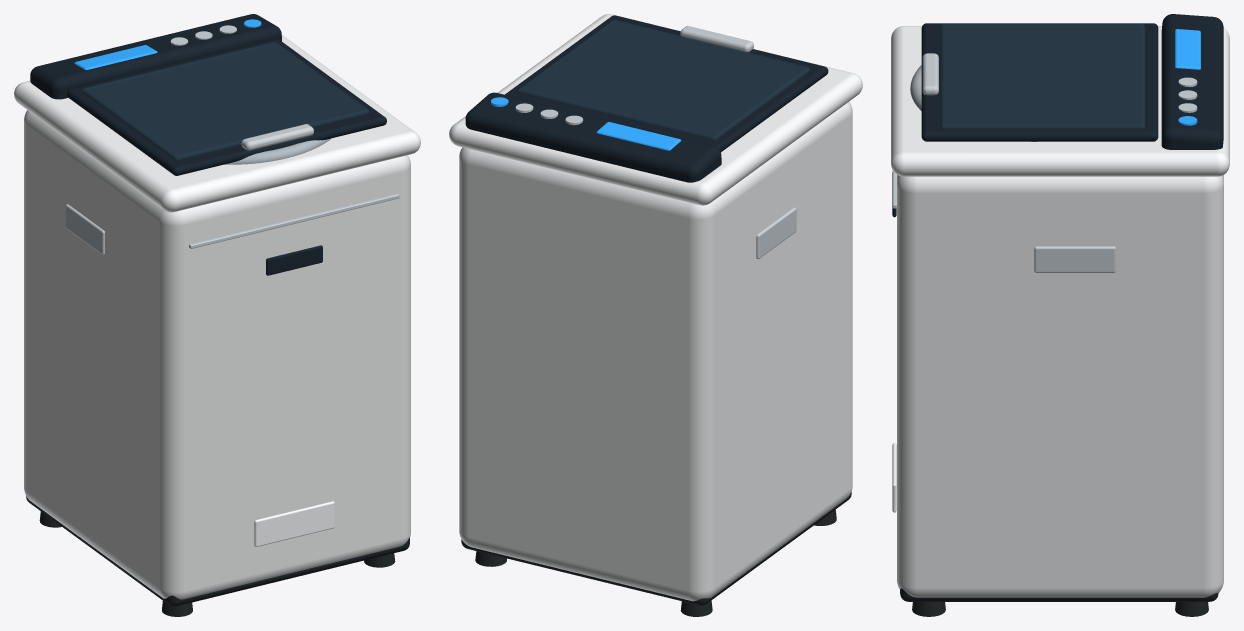
Rendered from washer.glb.
3 views of the same model, side by side, from view 1: azimuth 30°, elevation 25°; view 2: azimuth 150°, elevation 25°; view 3: azimuth 270°, elevation 25° (orthographic). The views are drawn at different scales.
Visible parts, largest first — view 1: Cabinet, Lid_Frame, Lid_Glass, Top_Deck, Control_Console, Service_Hatch, Lower_Plinth, Front_Top_Seam, Side_Grip_Left, Brand_Badge, Tub_Outer_Rim, Lid_Handle (+1 smaller); view 2: Cabinet, Lid_Frame, Lid_Glass, Top_Deck, Control_Console, Lower_Plinth, Digital_Display, Side_Grip_Left, Lid_Handle; view 3: Cabinet, Lid_Frame, Lid_Glass, Top_Deck, Control_Console, Side_Grip_Right, Lower_Plinth, Digital_Display, Lid_Handle.
Part boxes in pixels (x1,y1,x2,y2): Cabinet: (24, 110, 410, 599); Lid_Frame: (67, 39, 386, 175); Lid_Glass: (82, 42, 369, 160); Top_Deck: (14, 34, 420, 212); Control_Console: (30, 14, 281, 99); Service_Hatch: (254, 501, 334, 546); Lower_Plinth: (26, 496, 409, 606); Front_Top_Seam: (189, 193, 399, 248); Side_Grip_Left: (65, 204, 104, 255); Brand_Badge: (266, 245, 322, 275); Tub_Outer_Rim: (224, 138, 331, 164); Lid_Handle: (241, 124, 313, 150); Cabinet: (459, 101, 852, 601); Lid_Frame: (505, 15, 828, 151); Lid_Glass: (518, 20, 810, 140); Top_Deck: (449, 14, 862, 205); Control_Console: (465, 92, 721, 182); Lower_Plinth: (461, 492, 851, 605); Digital_Display: (596, 122, 681, 150); Side_Grip_Left: (756, 207, 796, 258); Lid_Handle: (680, 26, 753, 52); Cabinet: (897, 175, 1223, 597); Lid_Frame: (921, 23, 1158, 141); Lid_Glass: (940, 24, 1145, 128); Top_Deck: (891, 26, 1229, 176); Control_Console: (1161, 14, 1223, 149); Side_Grip_Right: (1034, 246, 1115, 272); Lower_Plinth: (900, 588, 1218, 601); Digital_Display: (1175, 29, 1200, 69); Lid_Handle: (922, 53, 938, 95).
Size of the model in its own units: 0.55 by 0.9197 by 0.58.
